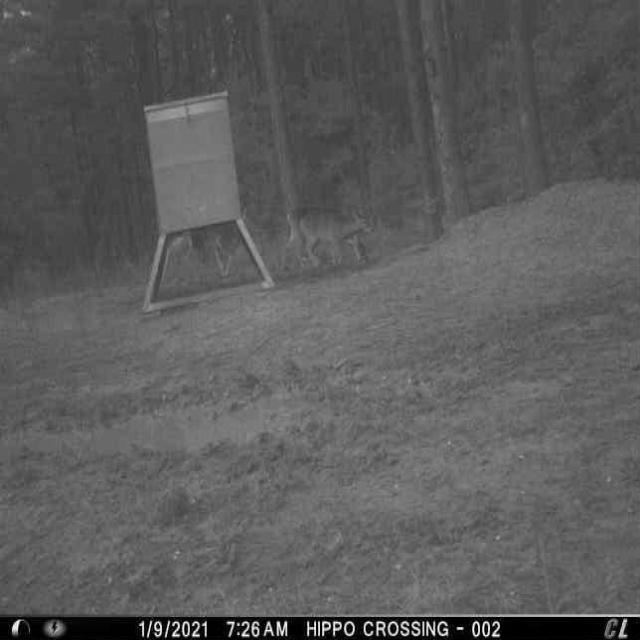Deer: (291, 197, 379, 279)
